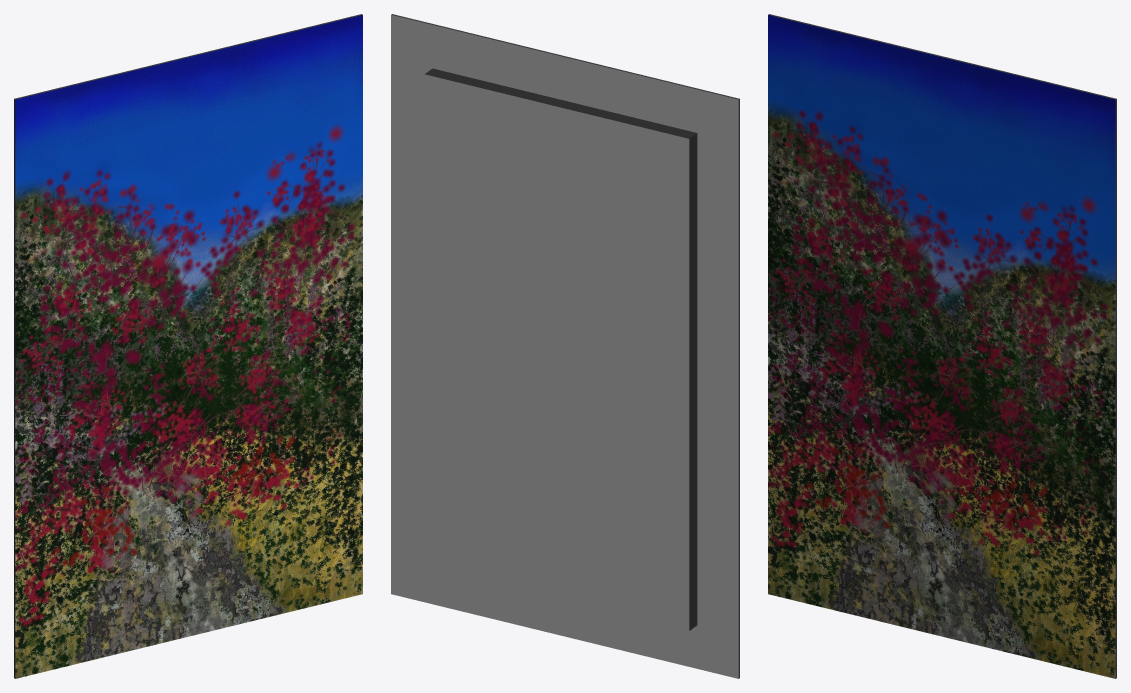
The model's file is os017_moyen_dibond.glb.
The picture shows the model from 3 angles, left to right: view 1: azimuth 30°, elevation 25°; view 2: azimuth 150°, elevation 25°; view 3: azimuth 330°, elevation 25°; orthographic projection.
Visible parts, largest first — view 1: os017_moyen_dibond; view 2: os017_moyen_dibond; view 3: os017_moyen_dibond.
Boxes of the visible parts, bbox=[...] form: os017_moyen_dibond: bbox=[14, 14, 362, 678]; os017_moyen_dibond: bbox=[391, 14, 739, 678]; os017_moyen_dibond: bbox=[768, 14, 1116, 678].
Size of the model in its own units: 0.5024 by 0.8 by 0.023.
4 materials, 1 textured.
